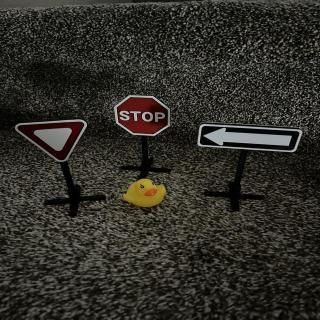duck_regular: (124, 180, 168, 210)
sign_oneway_left: (198, 125, 304, 155)
sign_stop: (115, 97, 173, 140)
sign_yield: (16, 120, 88, 164)
